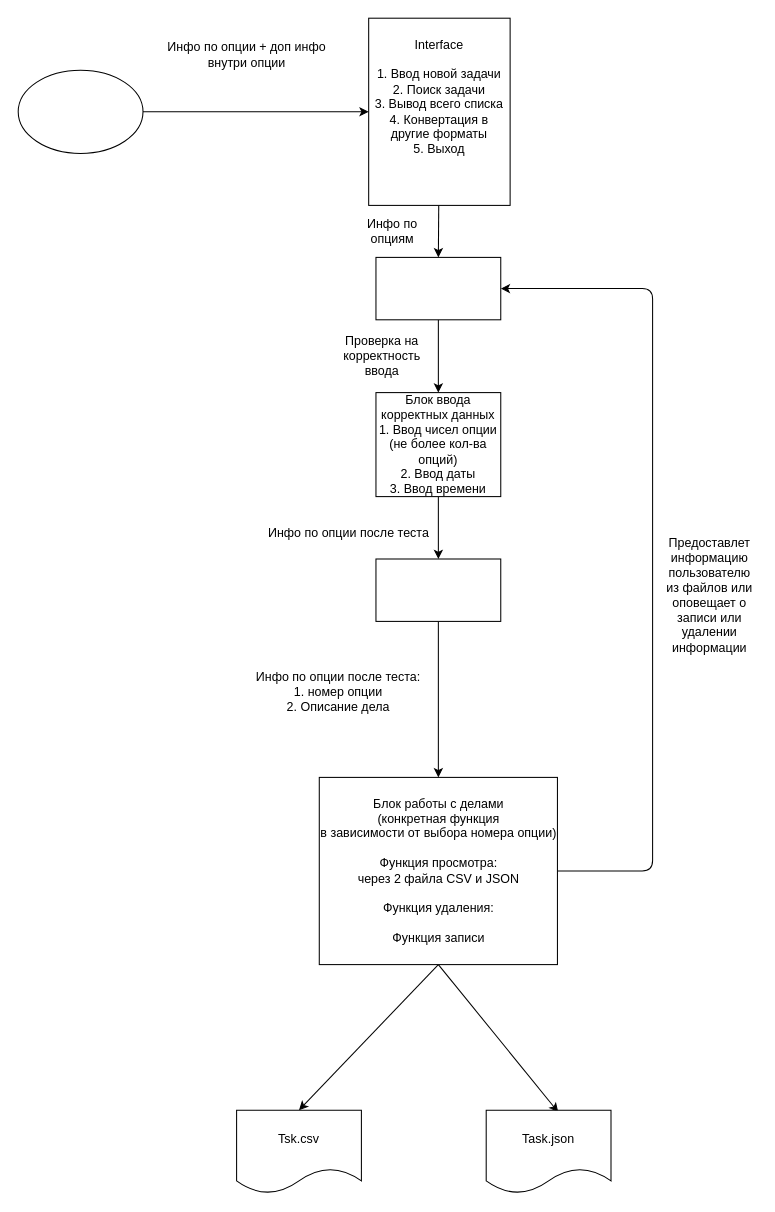
Some shapes in this 775 by 1212 pixel diagram are drawn without their labels. Each missing label, with the centre of its shape:
"Controller" goes at (438,288).
"User" goes at (80,111).
"Блок выбора опции" goes at (438,589).
